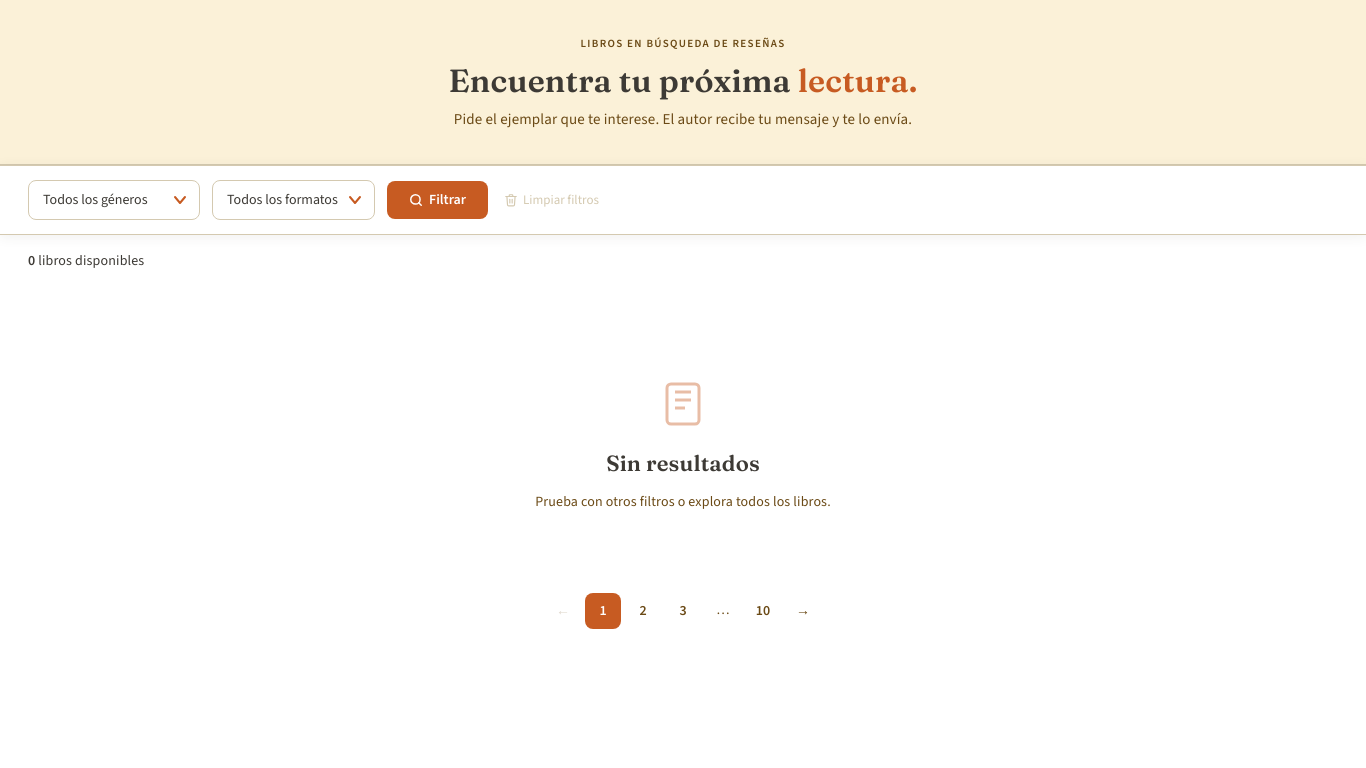
Test case: BooksPage — fetch/filter contract › disables "Limpiar filtros" until a filter is picked, applies it, and removes it from the request on clear
Expected: the button with aria-label "limpiar filtros de libros" is disabled, [500,182,603,218]
Select "papel" in the 2nd dropdown named "formato del libro": (294, 200) [212,180,375,220]
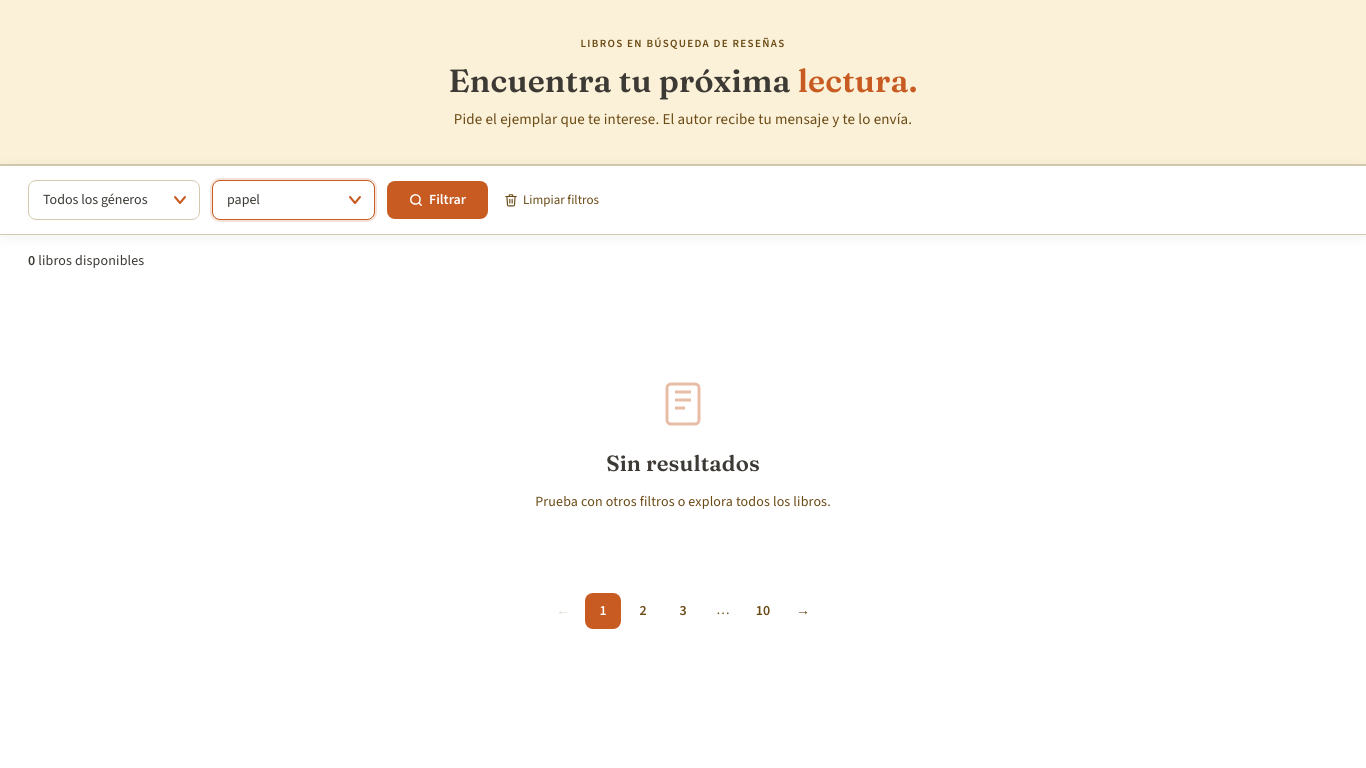
Result: the button with aria-label "limpiar filtros de libros" is enabled at [500,182,603,218]
Click the button with aria-label "filtrar libros": click(438, 200) [387,181,488,219]
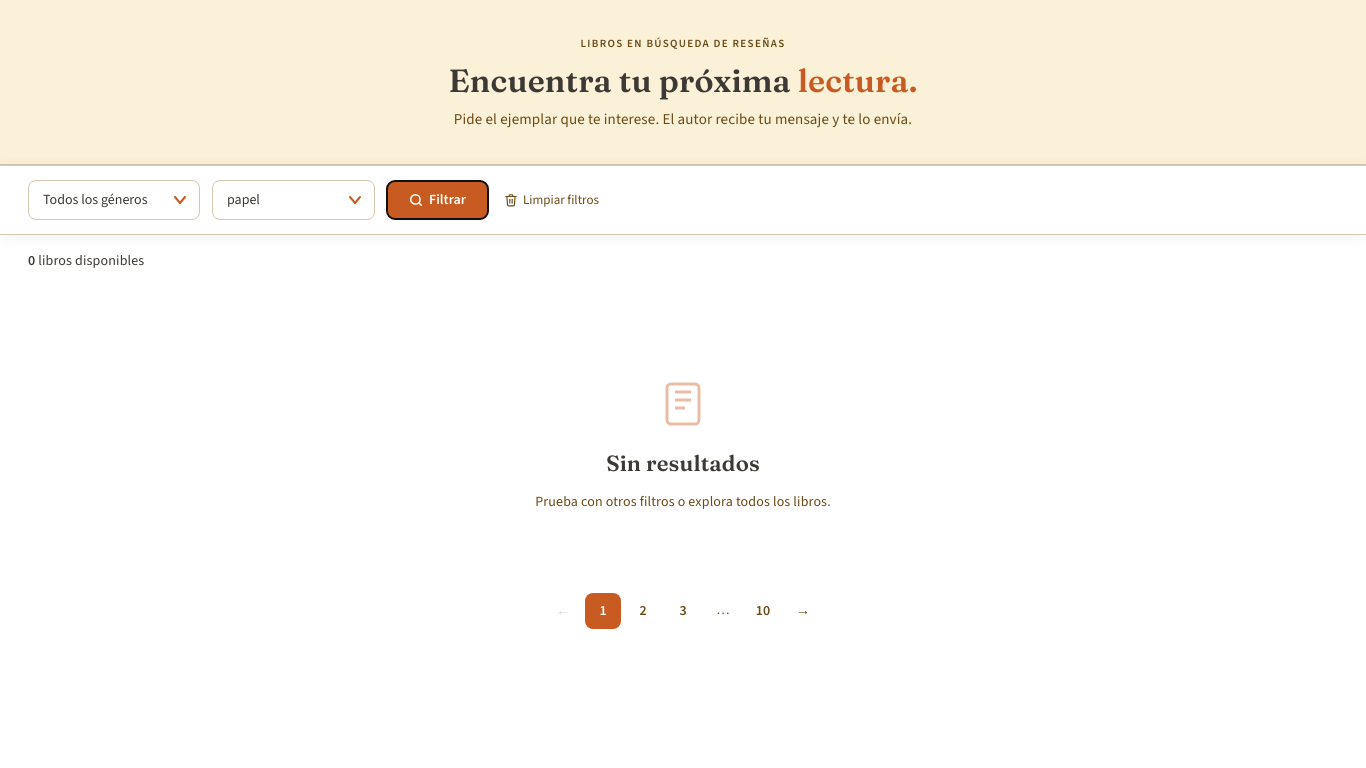
Click the button with aria-label "limpiar filtros de libros": click(551, 200) [500,182,603,218]
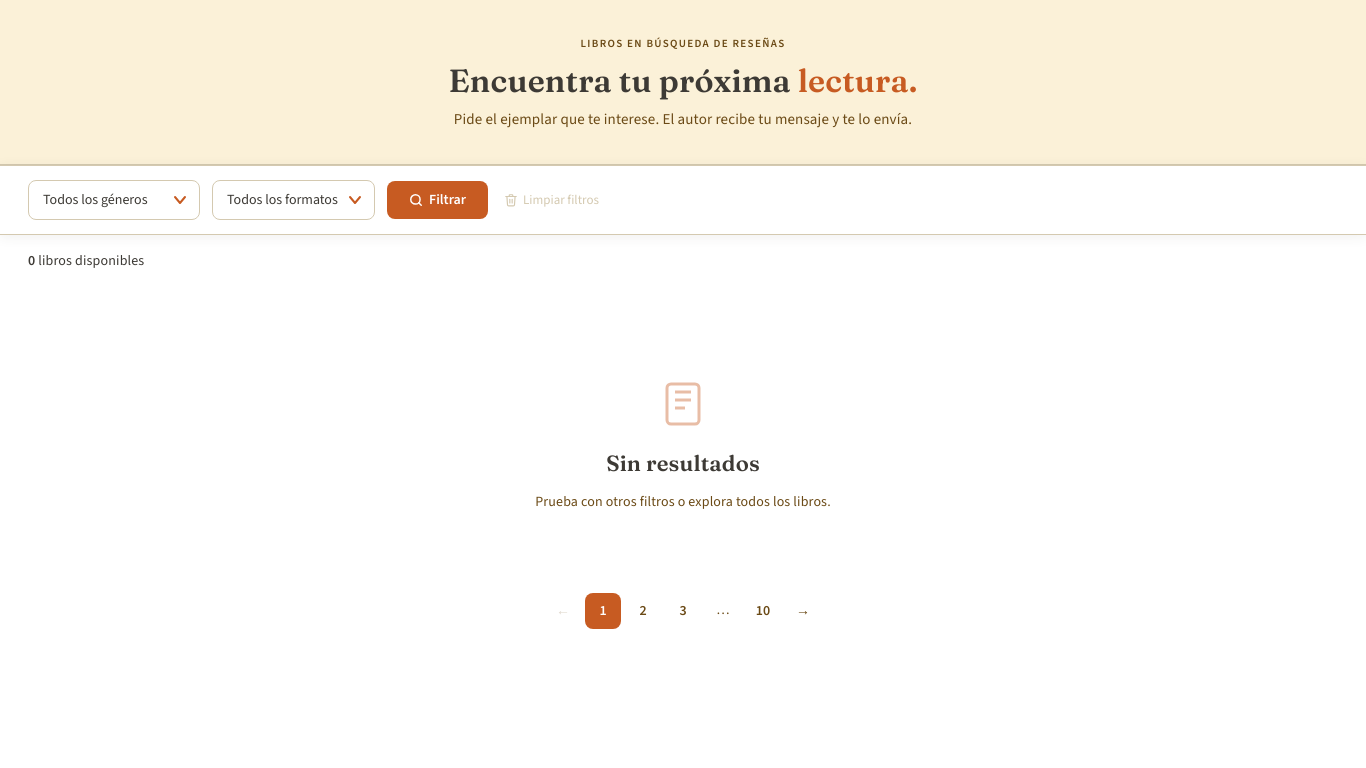
Result: the button with aria-label "limpiar filtros de libros" is disabled at [500,182,603,218]
